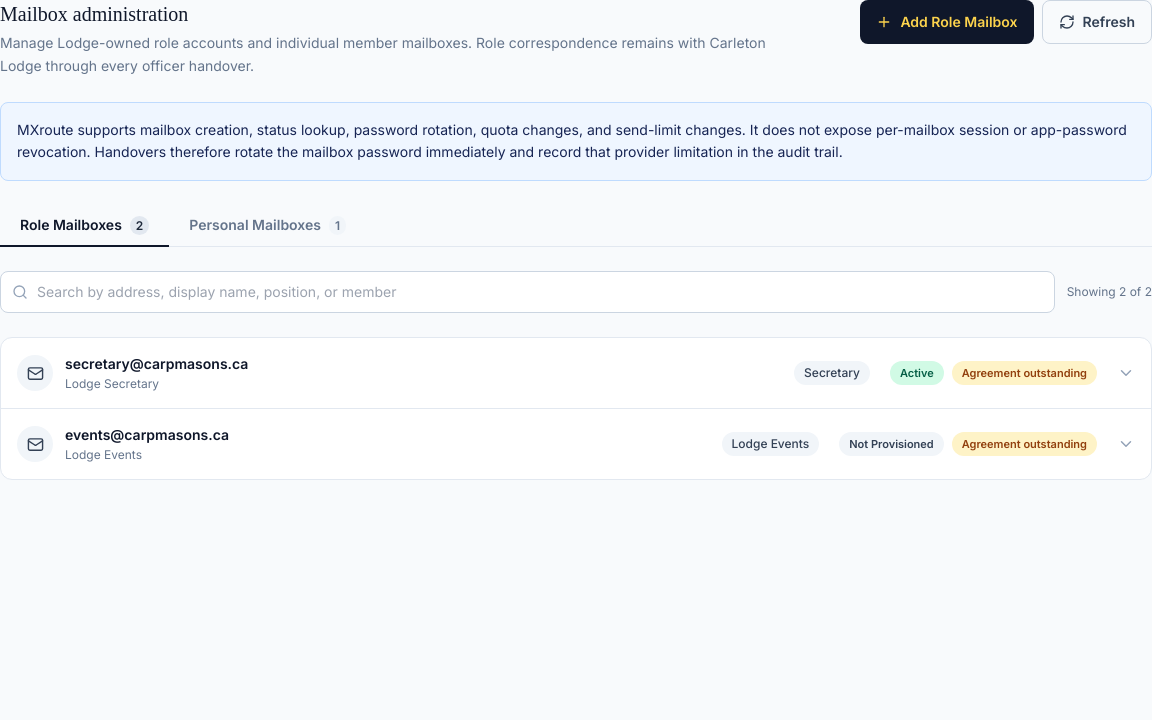
Test: LodgeEmailAccountsManager compact mailbox management › starts compact, opens one role mailbox at a time, and filters without a table
This screenshot has width=1152, height=720.
Expected: the button "Password Reset" is not shown
Click the button with aria-label "Manage mailbox secretary@carpmasons.ca". click: (35,373)
box: top-left (1, 338), bottom-right (1151, 408)
(page scrolled)
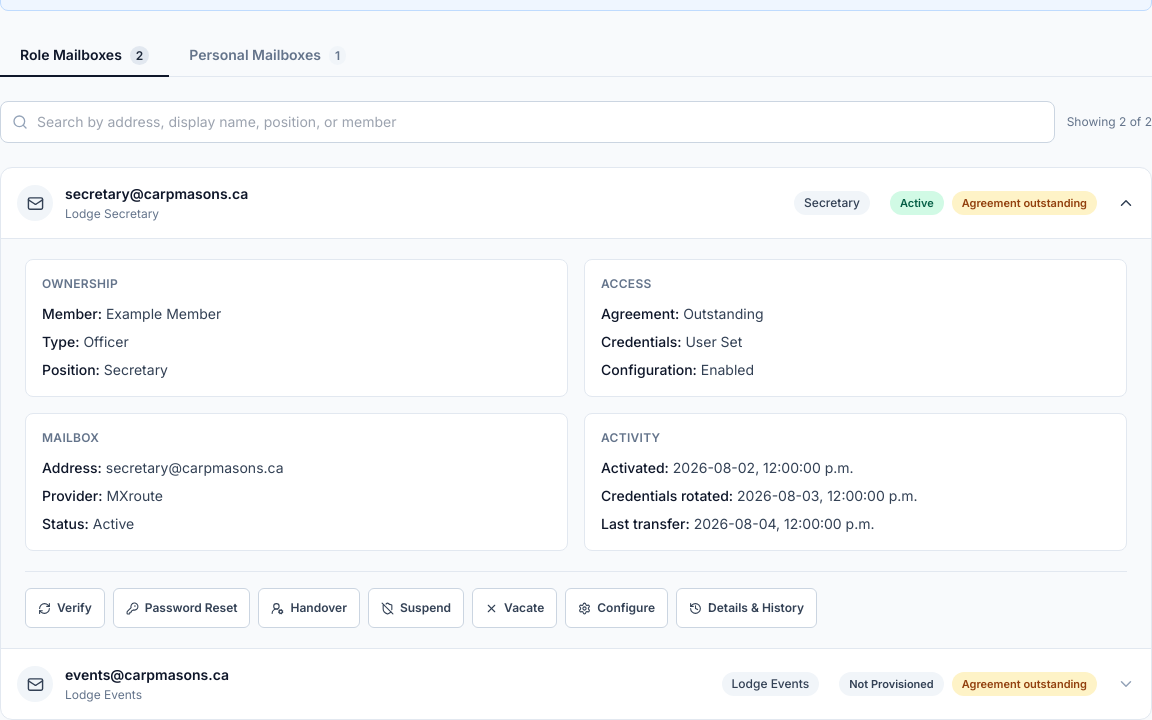
Expected: the button with aria-label "Manage mailbox secretary@carpmasons.ca" is expanded, top-left (1, 168), bottom-right (1151, 238)
Expected: the button "Password Reset" is shown, top-left (113, 588), bottom-right (250, 628)
Expected: the button "Handover" is shown, top-left (258, 588), bottom-right (360, 628)
Click the button with aria-label "Manage mailbox events@carpmasons.ca". click: (35,684)
box: top-left (1, 649), bottom-right (1151, 719)
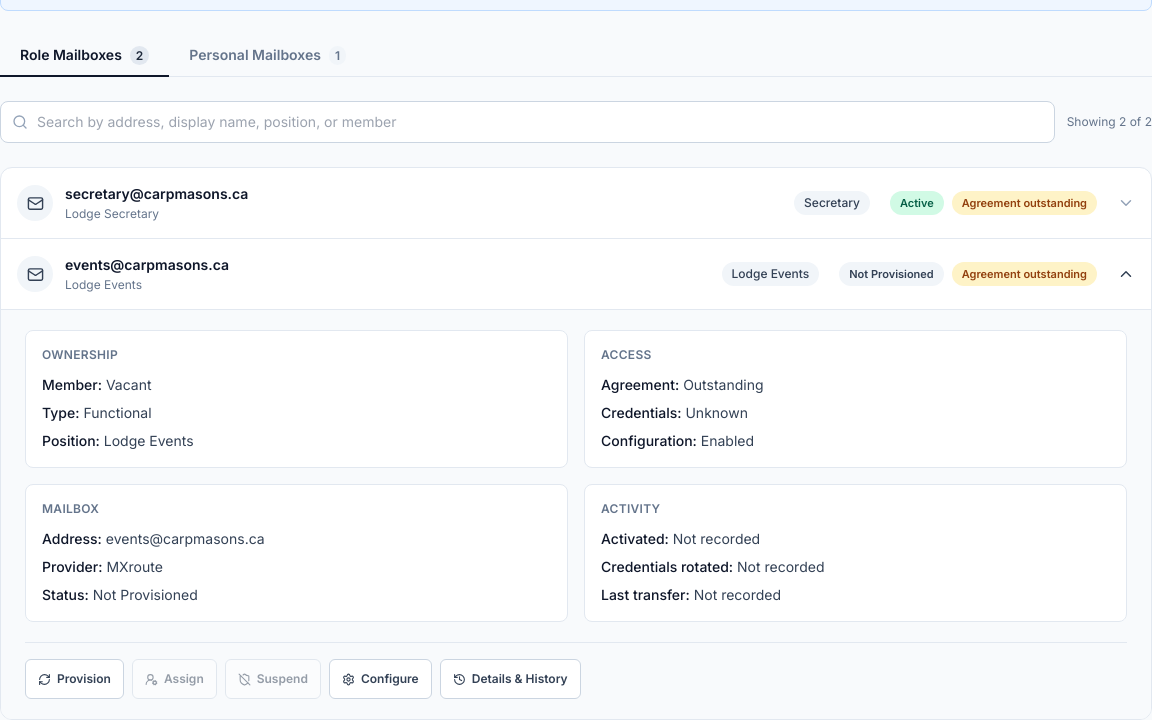
Expected: the button with aria-label "Manage mailbox secretary@carpmasons.ca" is collapsed, top-left (1, 168), bottom-right (1151, 238)
Expected: the button with aria-label "Manage mailbox events@carpmasons.ca" is expanded, top-left (1, 239), bottom-right (1151, 309)
Expected: the button "Password Reset" is gone
Type "Secretary" into the search field named "Search Lodge mailboxes". click: (527,122)
box: top-left (0, 101), bottom-right (1055, 143)
(page scrolled)
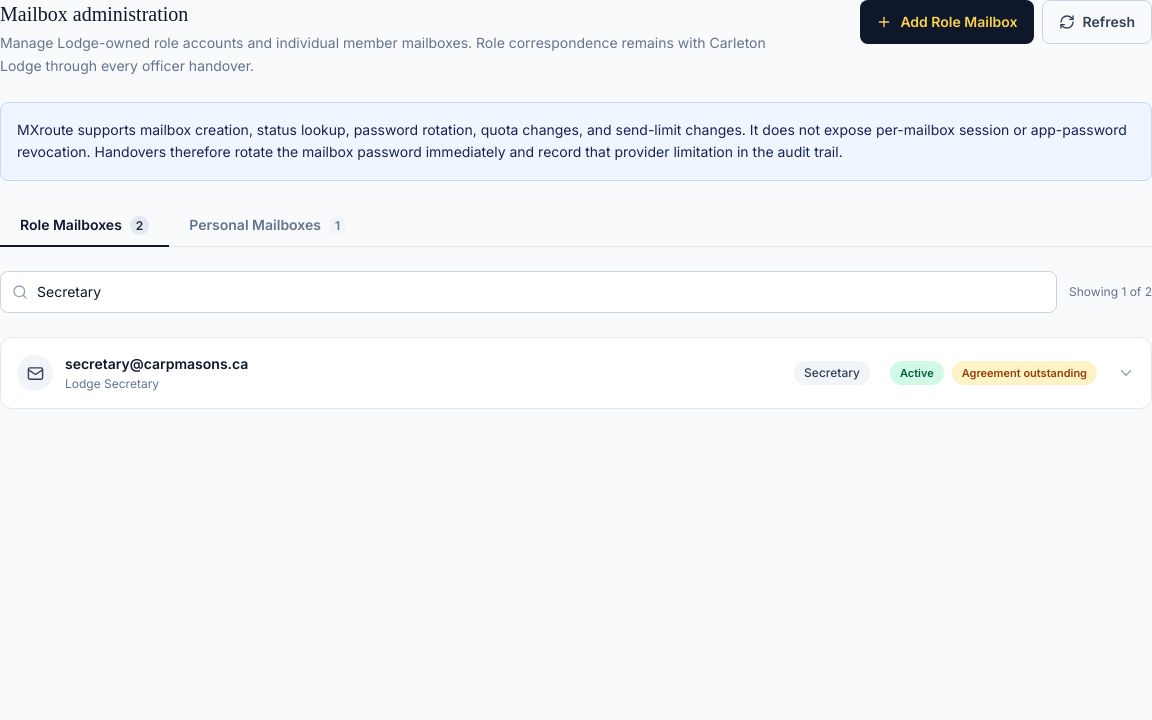
Expected: the button with aria-label "Manage mailbox secretary@carpmasons.ca" is shown, top-left (1, 338), bottom-right (1151, 408)
Expected: the text "Showing 1 of 2" is shown, top-left (1069, 284), bottom-right (1151, 300)
